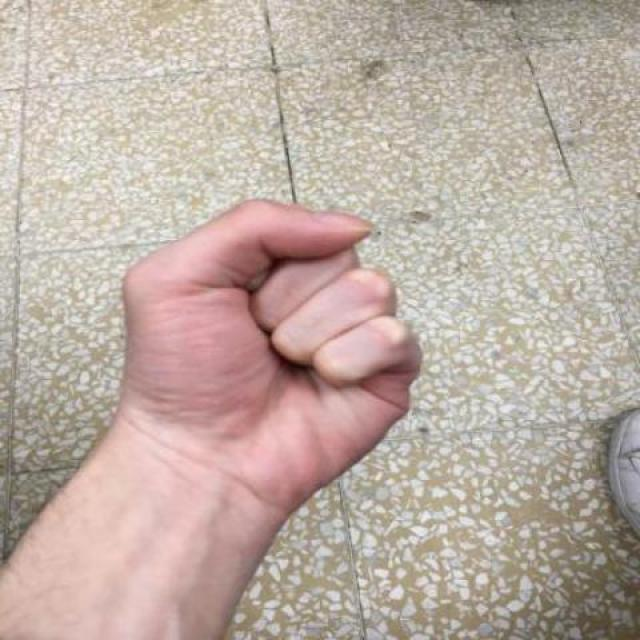Closed Hand: (100, 191, 428, 514)
